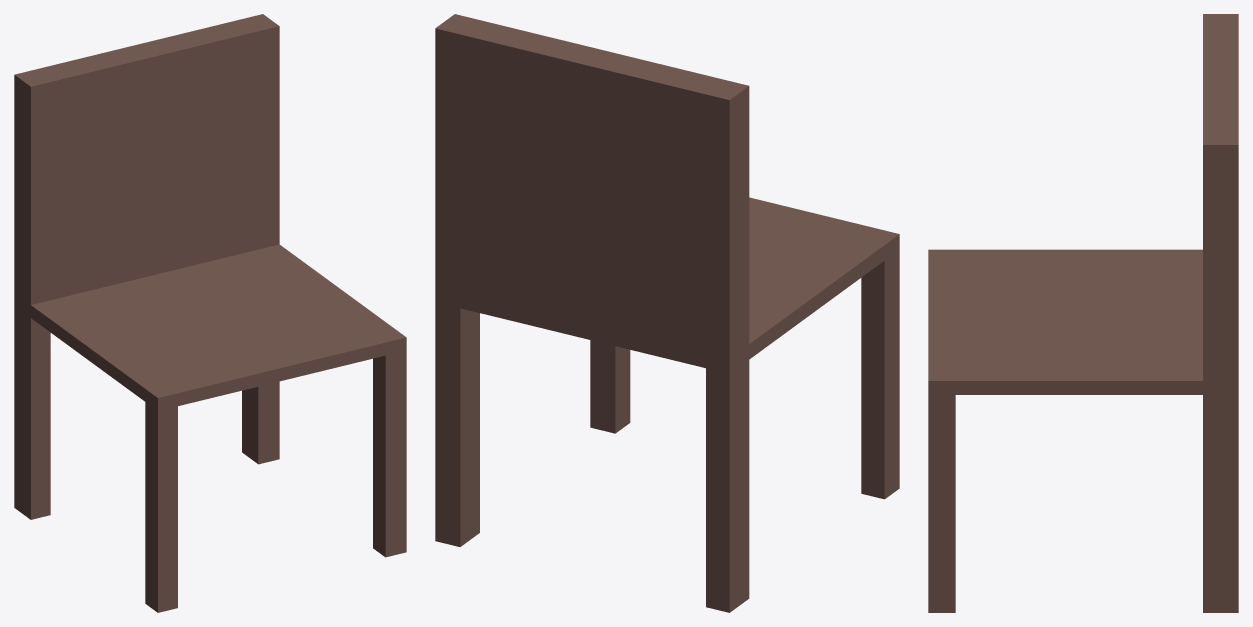
The model's file is Wooden Brown Chair.fbx.
The picture shows the model from 3 angles, left to right: view 1: azimuth 30°, elevation 25°; view 2: azimuth 150°, elevation 25°; view 3: azimuth 270°, elevation 25°; orthographic projection. The views are drawn at different scales.
Parts seen in each view (by area): view 1: Cube; view 2: Cube; view 3: Cube.
Boxes of the visible parts, x1,y1,x2,y2 form: Cube: [14, 14, 406, 612]; Cube: [435, 14, 899, 612]; Cube: [928, 14, 1238, 612].
Bounding box in the file's own units: 534 × 889 × 535.
